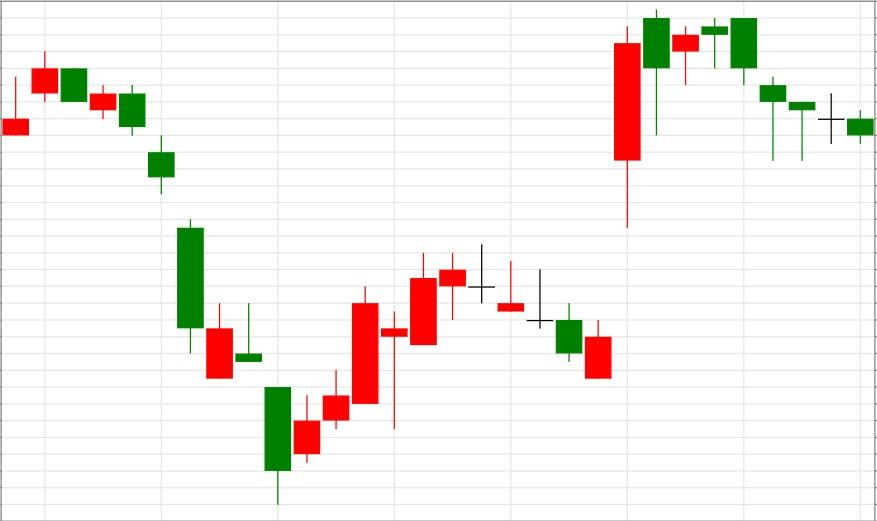three_black_crows_fall: (585, 9, 817, 379), (0, 51, 205, 354)
three_white_soldiers_rise: (30, 51, 380, 504)
